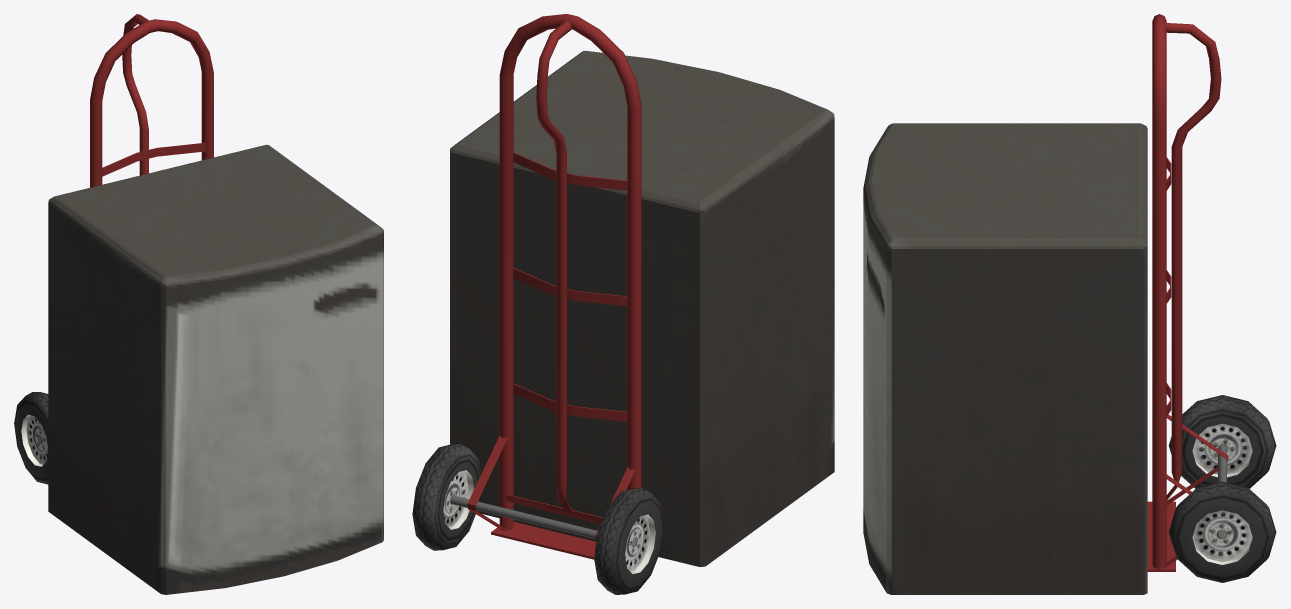
The model's file is PA_MiniFridge.fbx.
The picture shows the model from 3 angles, left to right: view 1: azimuth 30°, elevation 25°; view 2: azimuth 150°, elevation 25°; view 3: azimuth 270°, elevation 25°; orthographic projection. The views are drawn at different scales.
Visible parts, largest first — view 1: Handtruck_bottom; view 2: Handtruck_bottom; view 3: Handtruck_bottom.
Boxes of the visible parts, x1,y1,x2,y2 form: Handtruck_bottom: (14,14,383,594); Handtruck_bottom: (412,14,834,594); Handtruck_bottom: (863,14,1276,594).
Bounding box in the file's own units: 0.3993 × 0.7922 × 0.5721.
